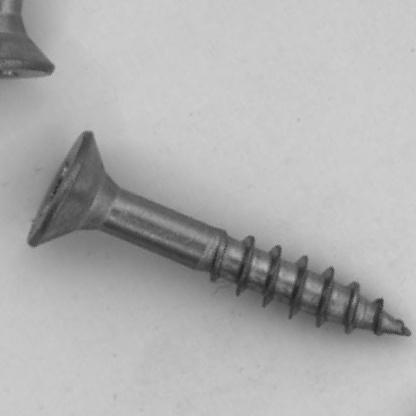metal: (23, 131, 412, 338)
